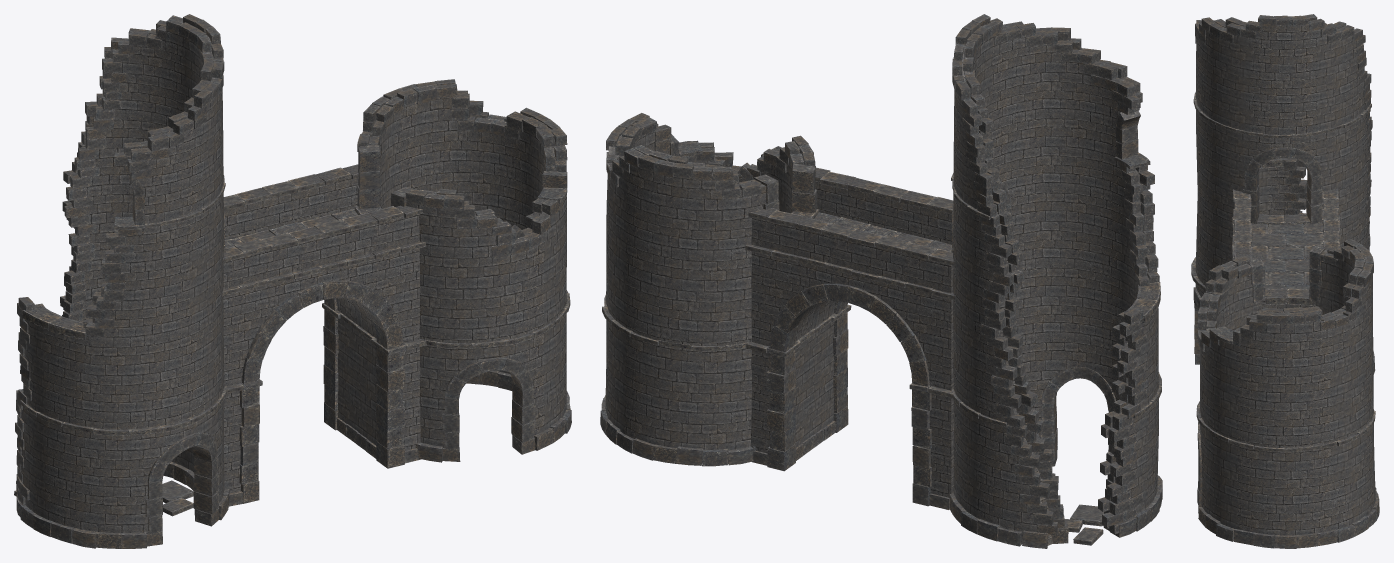
Rendered from Castle_Gate_Ruins.fbx.
3 renders of one model, left to right at view 1: azimuth 30°, elevation 25°; view 2: azimuth 150°, elevation 25°; view 3: azimuth 270°, elevation 25°, orthographic. The views are drawn at different scales.
Visible parts, largest first — view 1: StoneWall, StoneBricks; view 2: StoneWall, StoneBricks; view 3: StoneWall, StoneBricks.
Part boxes in pixels (x1,y1,x2,y2): StoneWall: (21,30,566,533); StoneBricks: (14,14,571,548); StoneWall: (605,24,1158,545); StoneBricks: (600,14,1162,548); StoneWall: (1195,23,1375,540); StoneBricks: (1191,14,1379,548).
Size of what is drawn, in the model's own units: 1120 by 925 by 409.
